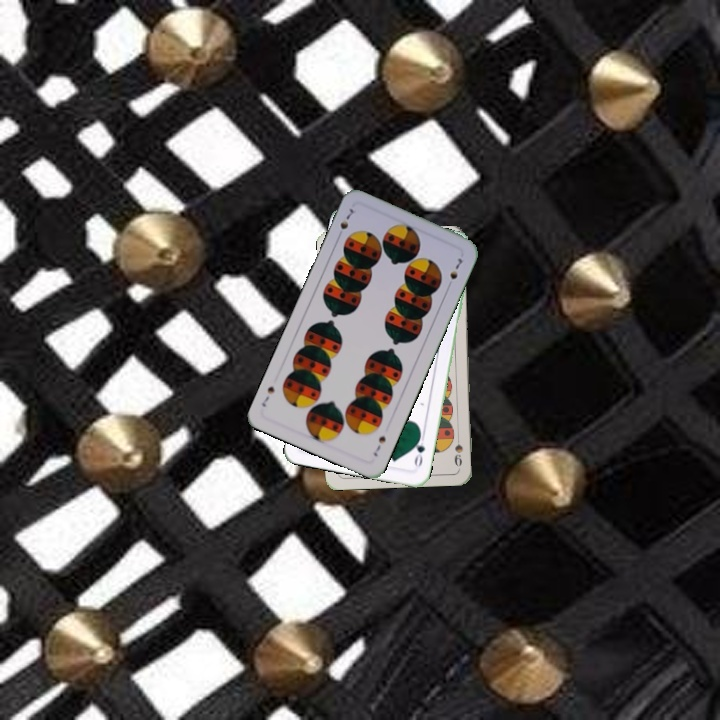GO: (410, 431, 427, 471)
S7: (333, 204, 358, 241), (369, 432, 389, 459)
S9: (450, 429, 465, 469)
